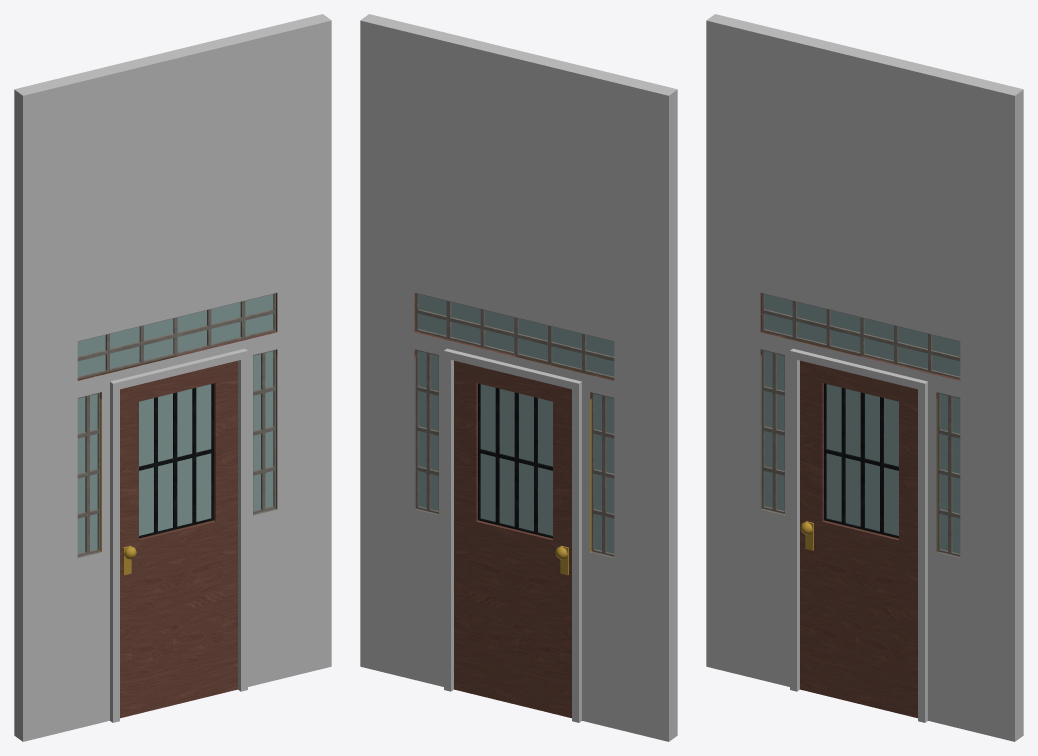
File: BR_BackDoor.fbx
The picture shows the model from 3 angles, left to right: view 1: azimuth 30°, elevation 25°; view 2: azimuth 150°, elevation 25°; view 3: azimuth 330°, elevation 25°; orthographic projection.
Visible parts, largest first — view 1: BR_BackDoorFrame, BR_BackDoor, BR_BackDoorFrameGlass, BR_BackDoorGlass; view 2: BR_BackDoorFrame, BR_BackDoor, BR_BackDoorFrameGlass, BR_BackDoorGlass; view 3: BR_BackDoorFrame, BR_BackDoor, BR_BackDoorFrameGlass, BR_BackDoorGlass.
Boxes of the visible parts, x1,y1,x2,y2 form: BR_BackDoorFrame: [14, 14, 331, 741]; BR_BackDoor: [120, 360, 237, 718]; BR_BackDoorFrameGlass: [77, 294, 273, 553]; BR_BackDoorGlass: [139, 384, 211, 535]; BR_BackDoorFrame: [360, 14, 677, 741]; BR_BackDoor: [454, 360, 571, 718]; BR_BackDoorFrameGlass: [418, 294, 614, 553]; BR_BackDoorGlass: [480, 384, 552, 535]; BR_BackDoorFrame: [706, 14, 1023, 741]; BR_BackDoor: [800, 360, 917, 718]; BR_BackDoorFrameGlass: [764, 294, 960, 553]; BR_BackDoorGlass: [826, 384, 898, 535].
Size of the model in its own units: 200 by 400 by 23.6.
